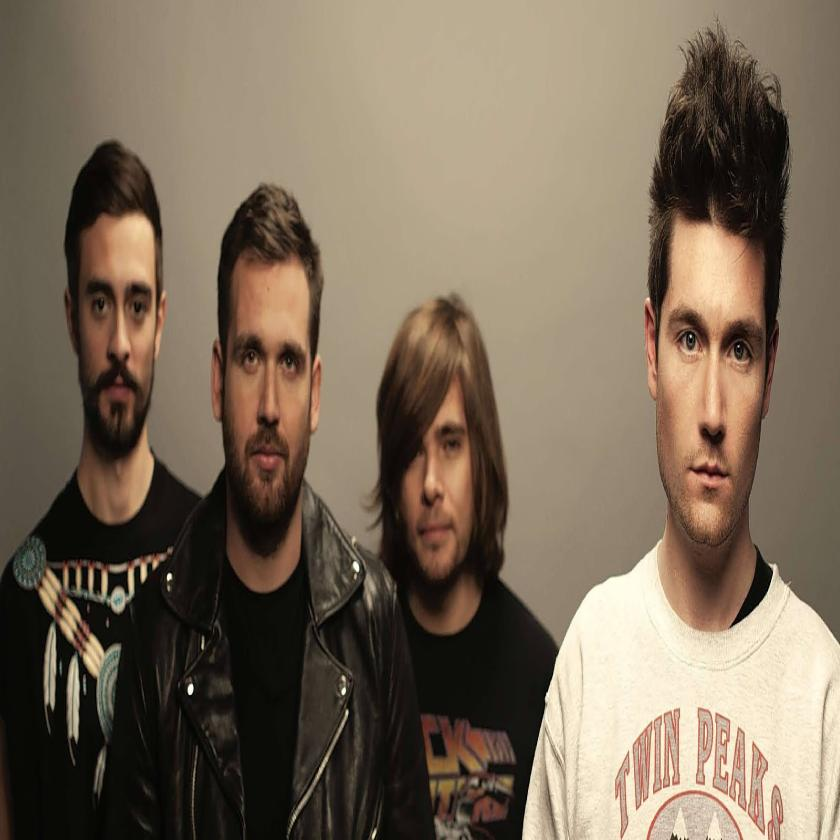Sin_casco: (637, 36, 796, 583), (203, 177, 330, 568), (56, 133, 170, 464), (378, 295, 502, 592)
